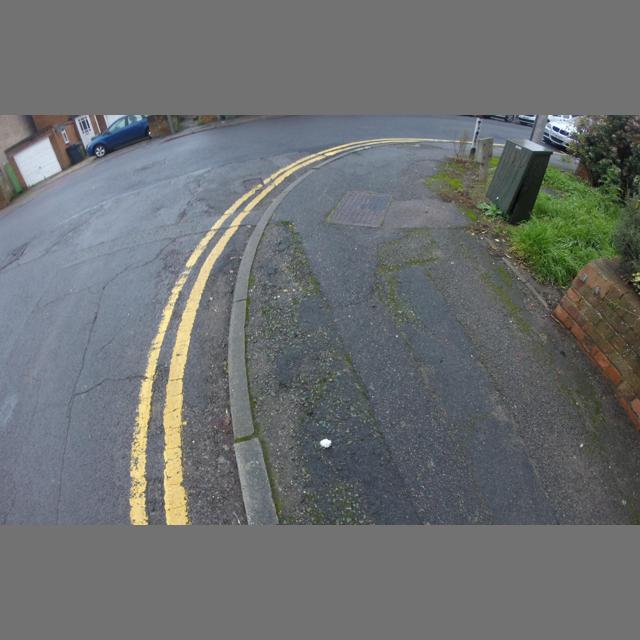litter: (320, 439, 331, 448)
